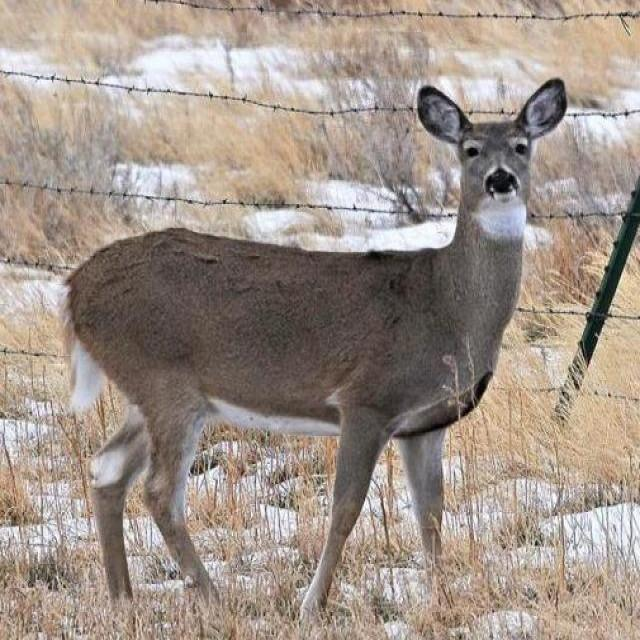deer: (66, 77, 566, 595)
